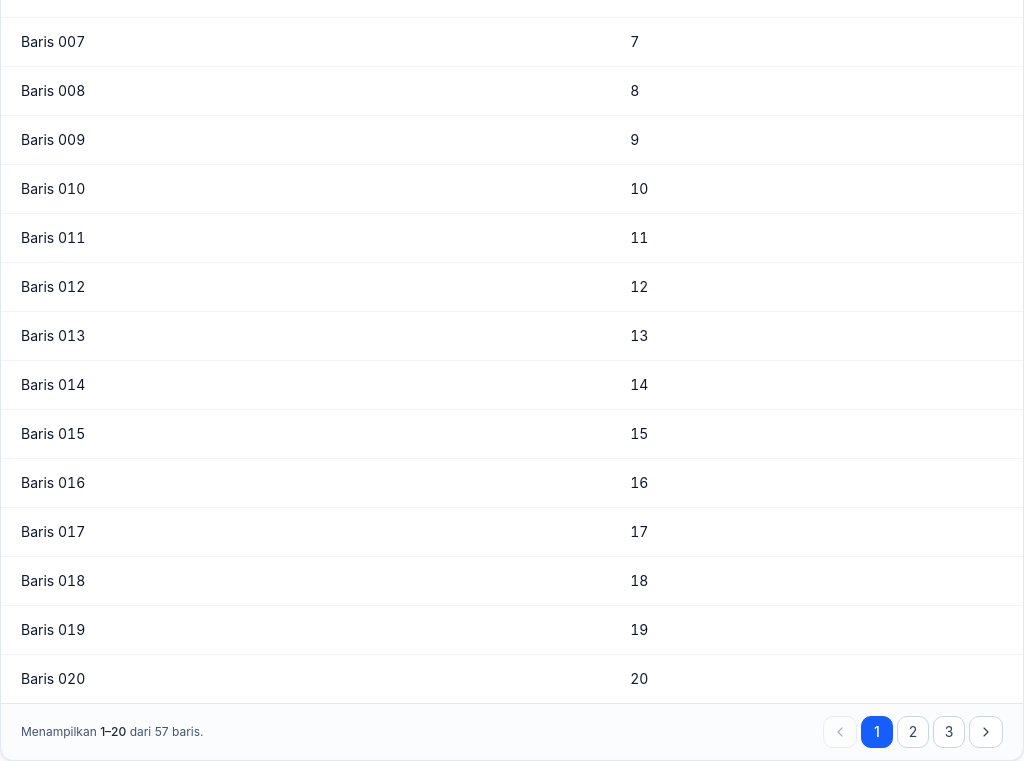
paginasi › berpindah lewat tombol berikutnya dan sebelumnya
This screenshot has width=1024, height=761.
(page scrolled)
Click the button named "Halaman berikutnya".
click(986, 732)  # box x1=969 y1=716 x2=1003 y2=748
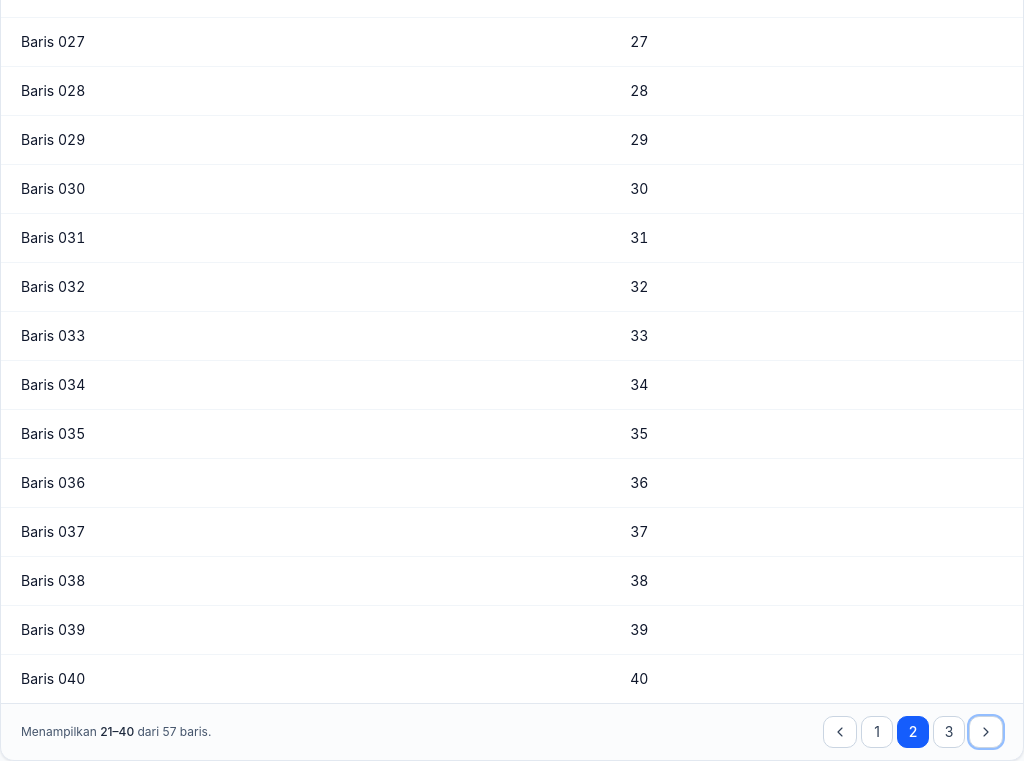
Click the button named "Halaman sebelumnya".
click(840, 732)  # box x1=823 y1=716 x2=857 y2=748
(page scrolled)
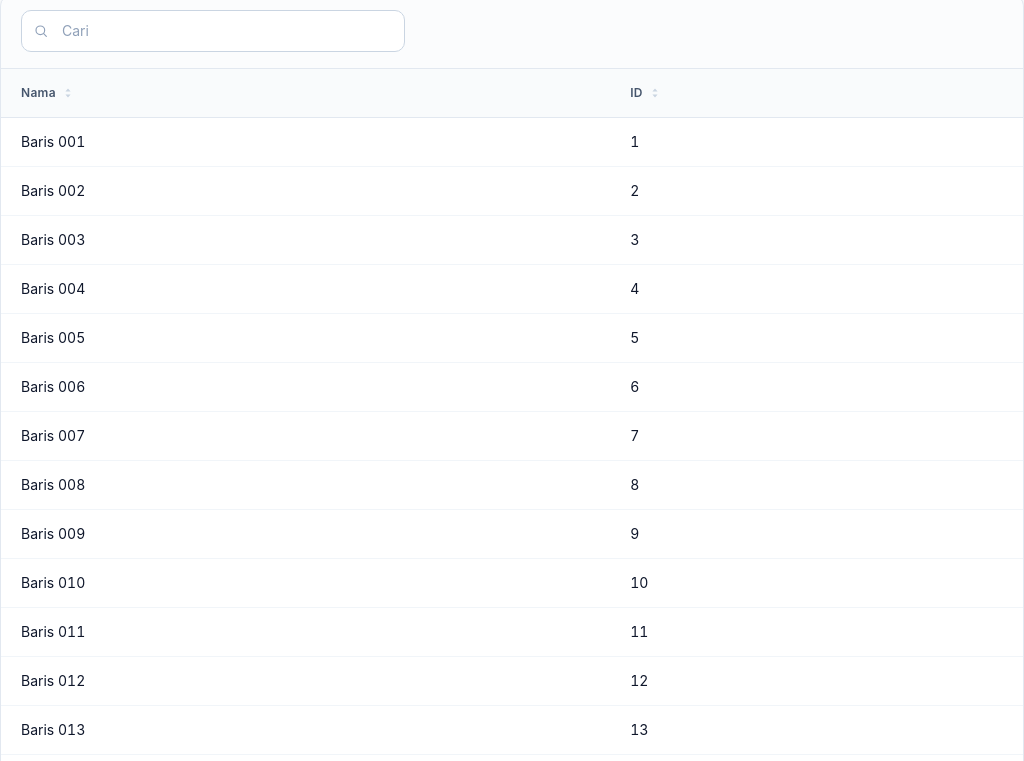
Check: the text "Baris 001" is shown, box x1=21 y1=133 x2=85 y2=150
